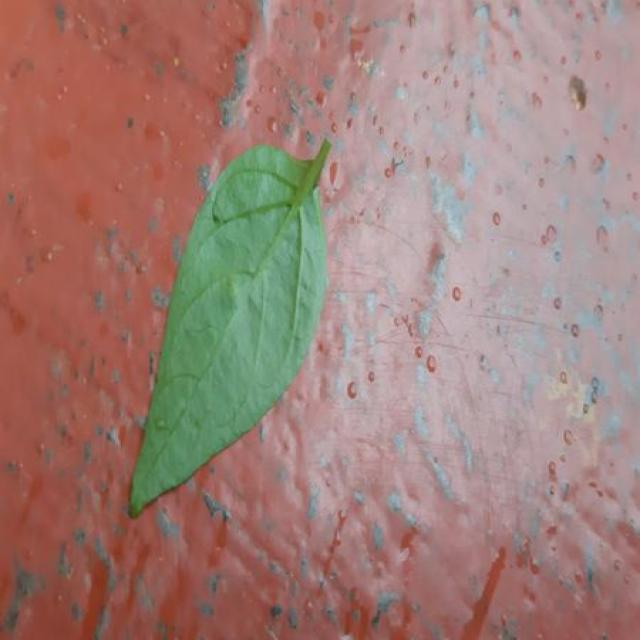chilly: (130, 141, 330, 516)
